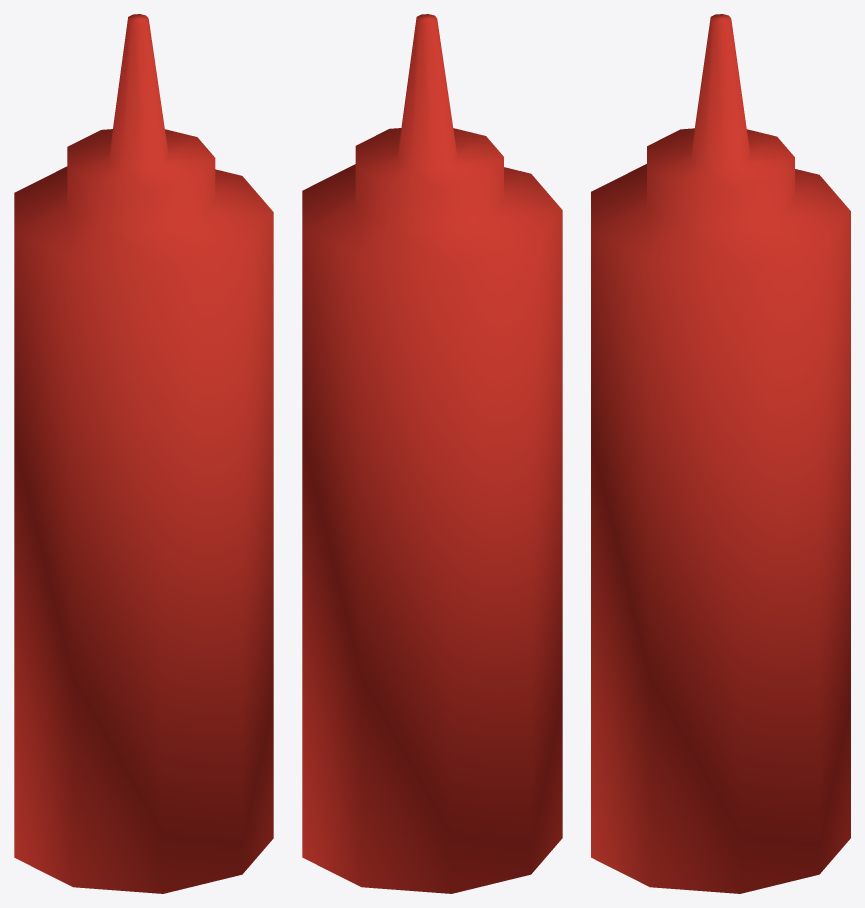
File: SqueezeBottleKetchup.glb
3 renders of one model, left to right at view 1: azimuth 30°, elevation 25°; view 2: azimuth 150°, elevation 25°; view 3: azimuth 270°, elevation 25°, orthographic.
Parts seen in each view (by area): view 1: SqueezeBottleKetchup; view 2: SqueezeBottleKetchup; view 3: SqueezeBottleKetchup.
Part boxes in pixels (bbox=[...]): SqueezeBottleKetchup: bbox=[14, 14, 273, 893]; SqueezeBottleKetchup: bbox=[302, 14, 562, 893]; SqueezeBottleKetchup: bbox=[591, 14, 850, 893].
Bounding box in the file's own units: 0.0985 × 0.3435 × 0.097.
Materials: 1 (1 with a texture image).
